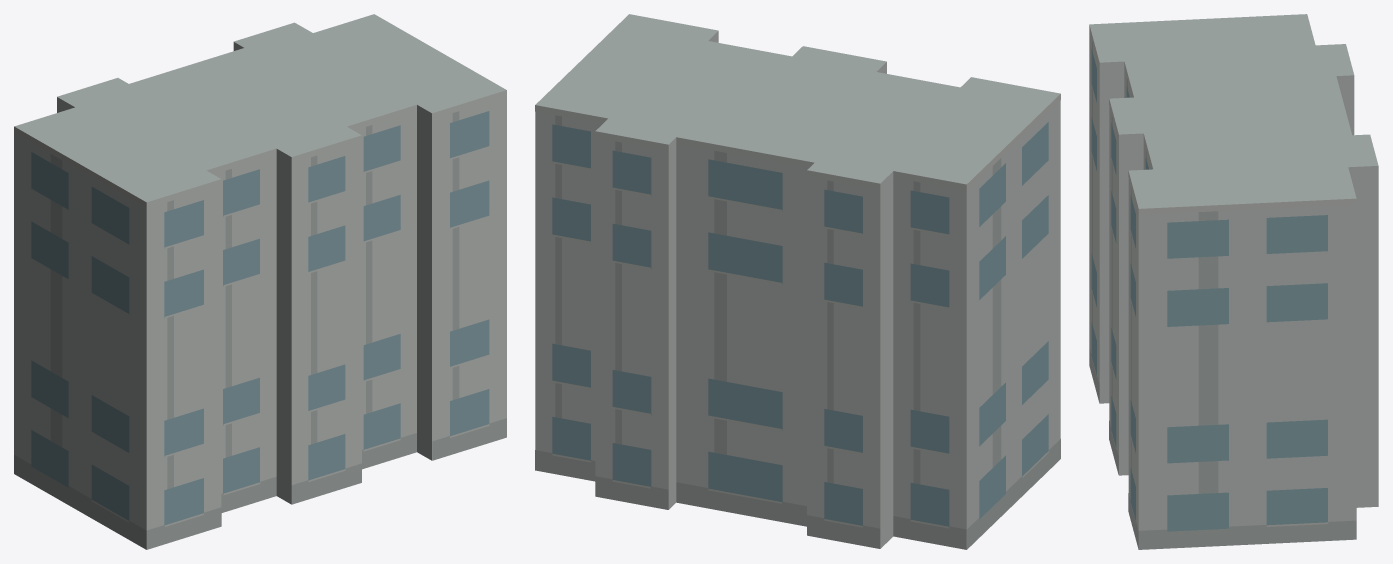
File: survey-upis-32614580.glb
3 views of the same model, side by side, from view 1: azimuth 30°, elevation 25°; view 2: azimuth 150°, elevation 25°; view 3: azimuth 270°, elevation 25° (orthographic). The views are drawn at different scales.
Parts seen in each view (by area): view 1: survey-upis-32614580.tmp; view 2: survey-upis-32614580.tmp; view 3: survey-upis-32614580.tmp.
Part boxes in pixels (bbox=[...]): survey-upis-32614580.tmp: bbox=[14, 14, 506, 549]; survey-upis-32614580.tmp: bbox=[535, 14, 1060, 549]; survey-upis-32614580.tmp: bbox=[1089, 14, 1378, 549].
Bounding box in the file's own units: 16.67 × 13.6 × 10.46.
